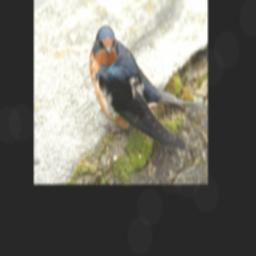Swallow: (88, 24, 208, 149)
